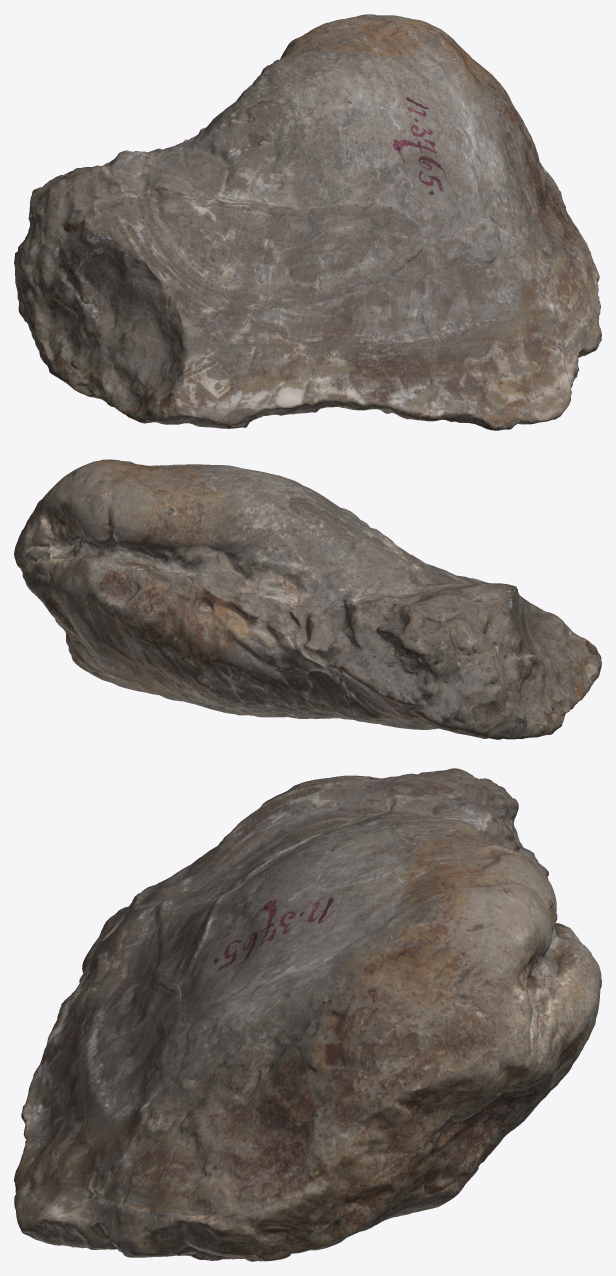
Rendered from ews0016116.glb.
The picture shows the model from 3 angles, top to bottom: view 1: azimuth 30°, elevation 25°; view 2: azimuth 150°, elevation 25°; view 3: azimuth 270°, elevation 25°; orthographic projection. The views are drawn at different scales.
Parts seen in each view (by area): view 1: input; view 2: input; view 3: input.
Part boxes in pixels (left/top/right/bottom): input: left=14, top=14, right=601, bottom=430; input: left=14, top=459, right=601, bottom=739; input: left=14, top=768, right=601, bottom=1261.
Size of the model in its own units: 0.0957 by 0.0488 by 0.0728.
1 material, 1 textured.
